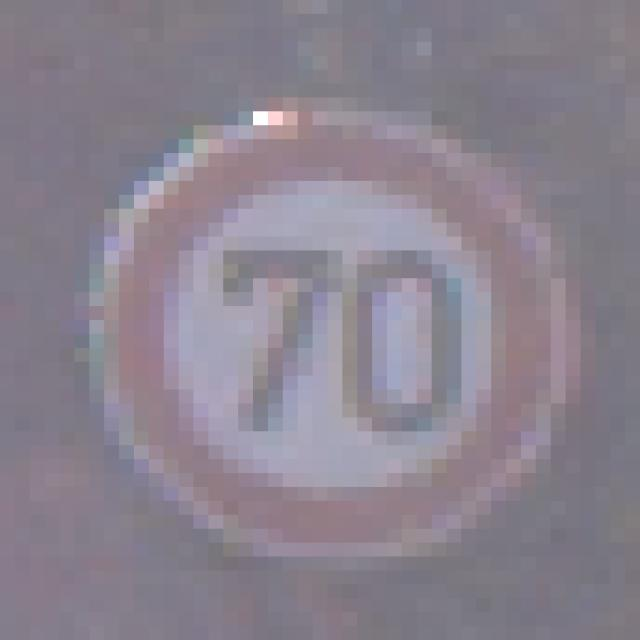Ograniczenie predkosci do 70: (101, 120, 566, 553)
